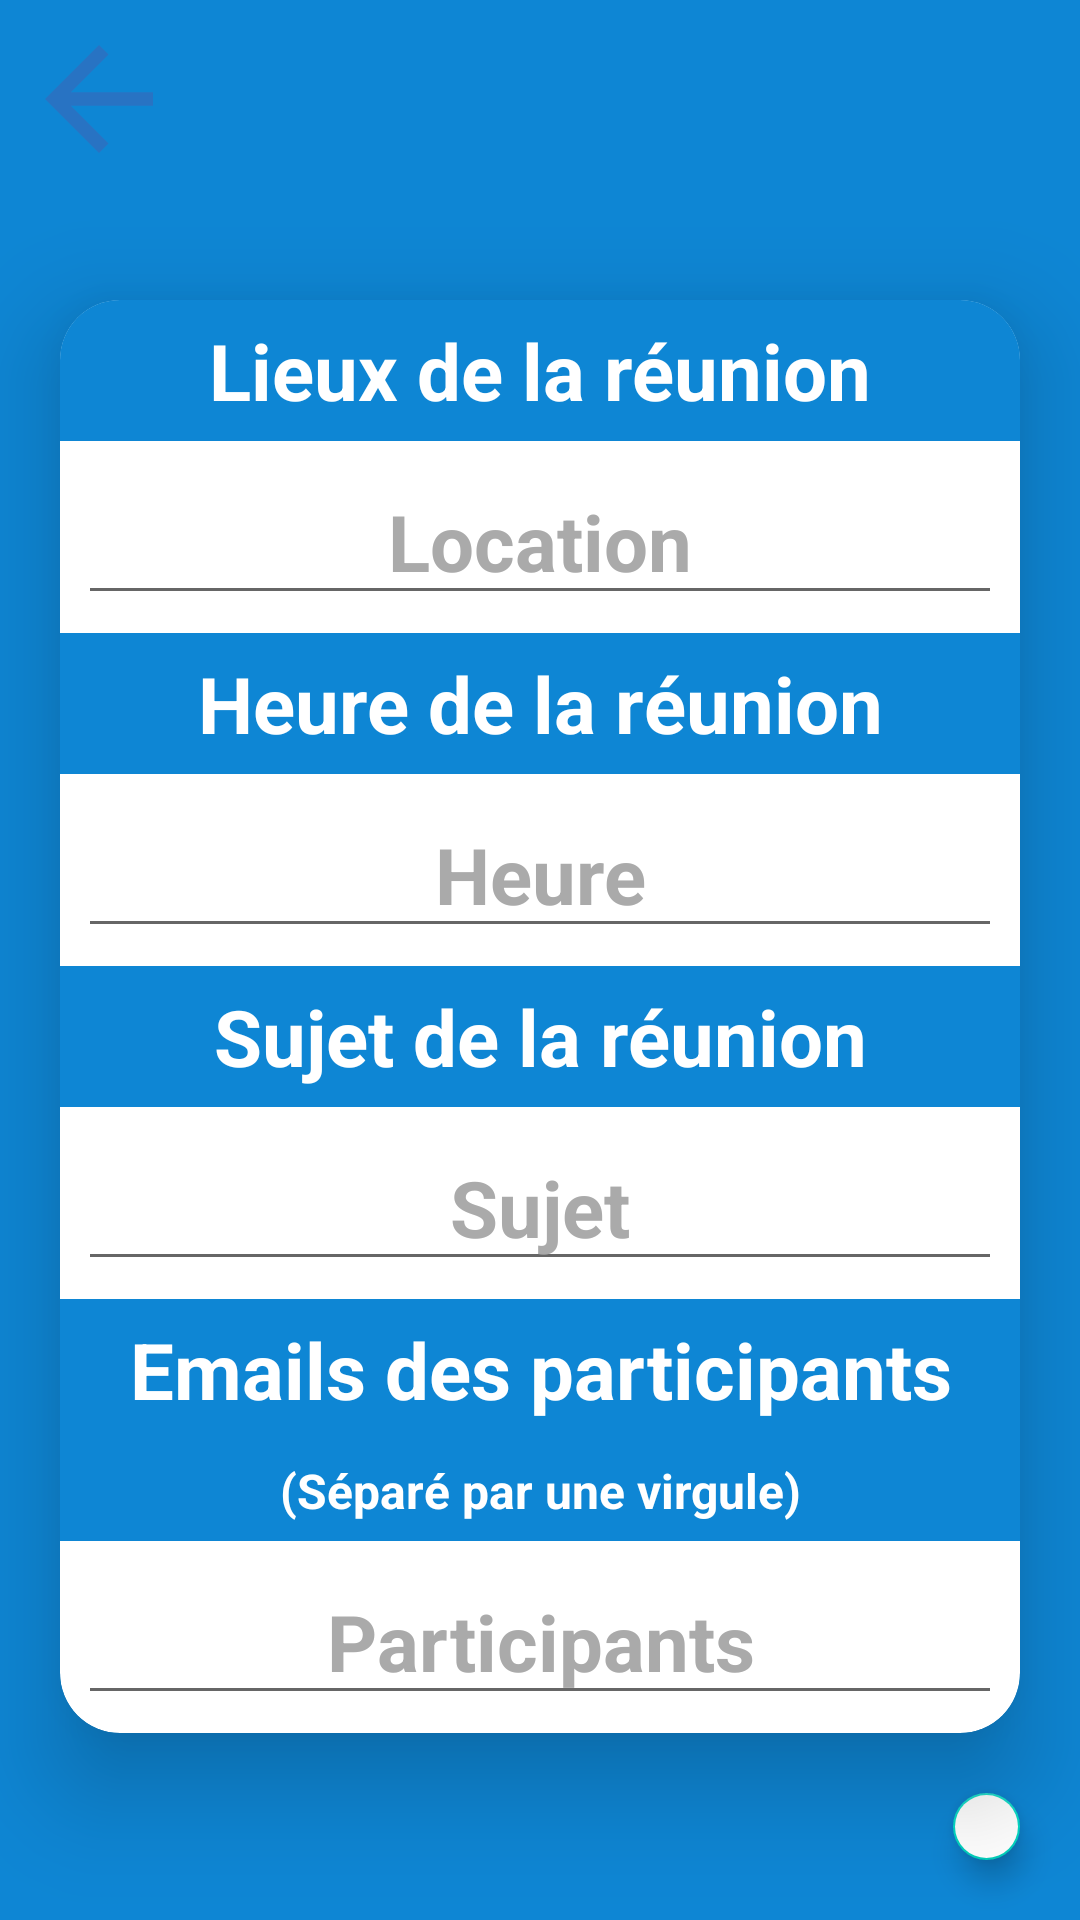

Icons on this 1080*1920 Android screen, each with its box as rect(x1, y1, x2, y2):
arrow back: rect(46, 46, 153, 152)
